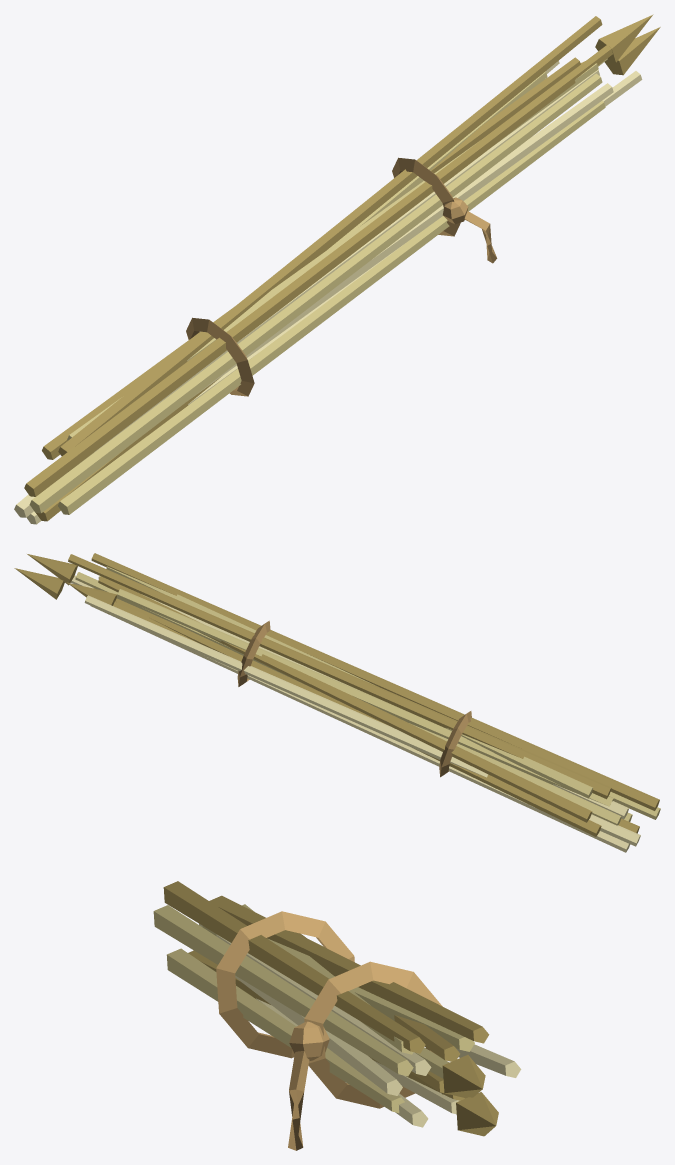
File: reed_fibre.glb
The picture shows the model from 3 angles, top to bottom: view 1: azimuth 30°, elevation 25°; view 2: azimuth 150°, elevation 25°; view 3: azimuth 270°, elevation 25°; orthographic projection. The views are drawn at different scales.
Visible parts, largest first — view 1: reed_fibre; view 2: reed_fibre; view 3: reed_fibre.
Boxes of the visible parts, box(x1,y1,x2,y2) form: reed_fibre: box(14, 14, 660, 524); reed_fibre: box(14, 553, 660, 852); reed_fibre: box(153, 881, 521, 1150).
Bounding box in the file's own units: 0.8779 × 0.3309 × 0.2474.
